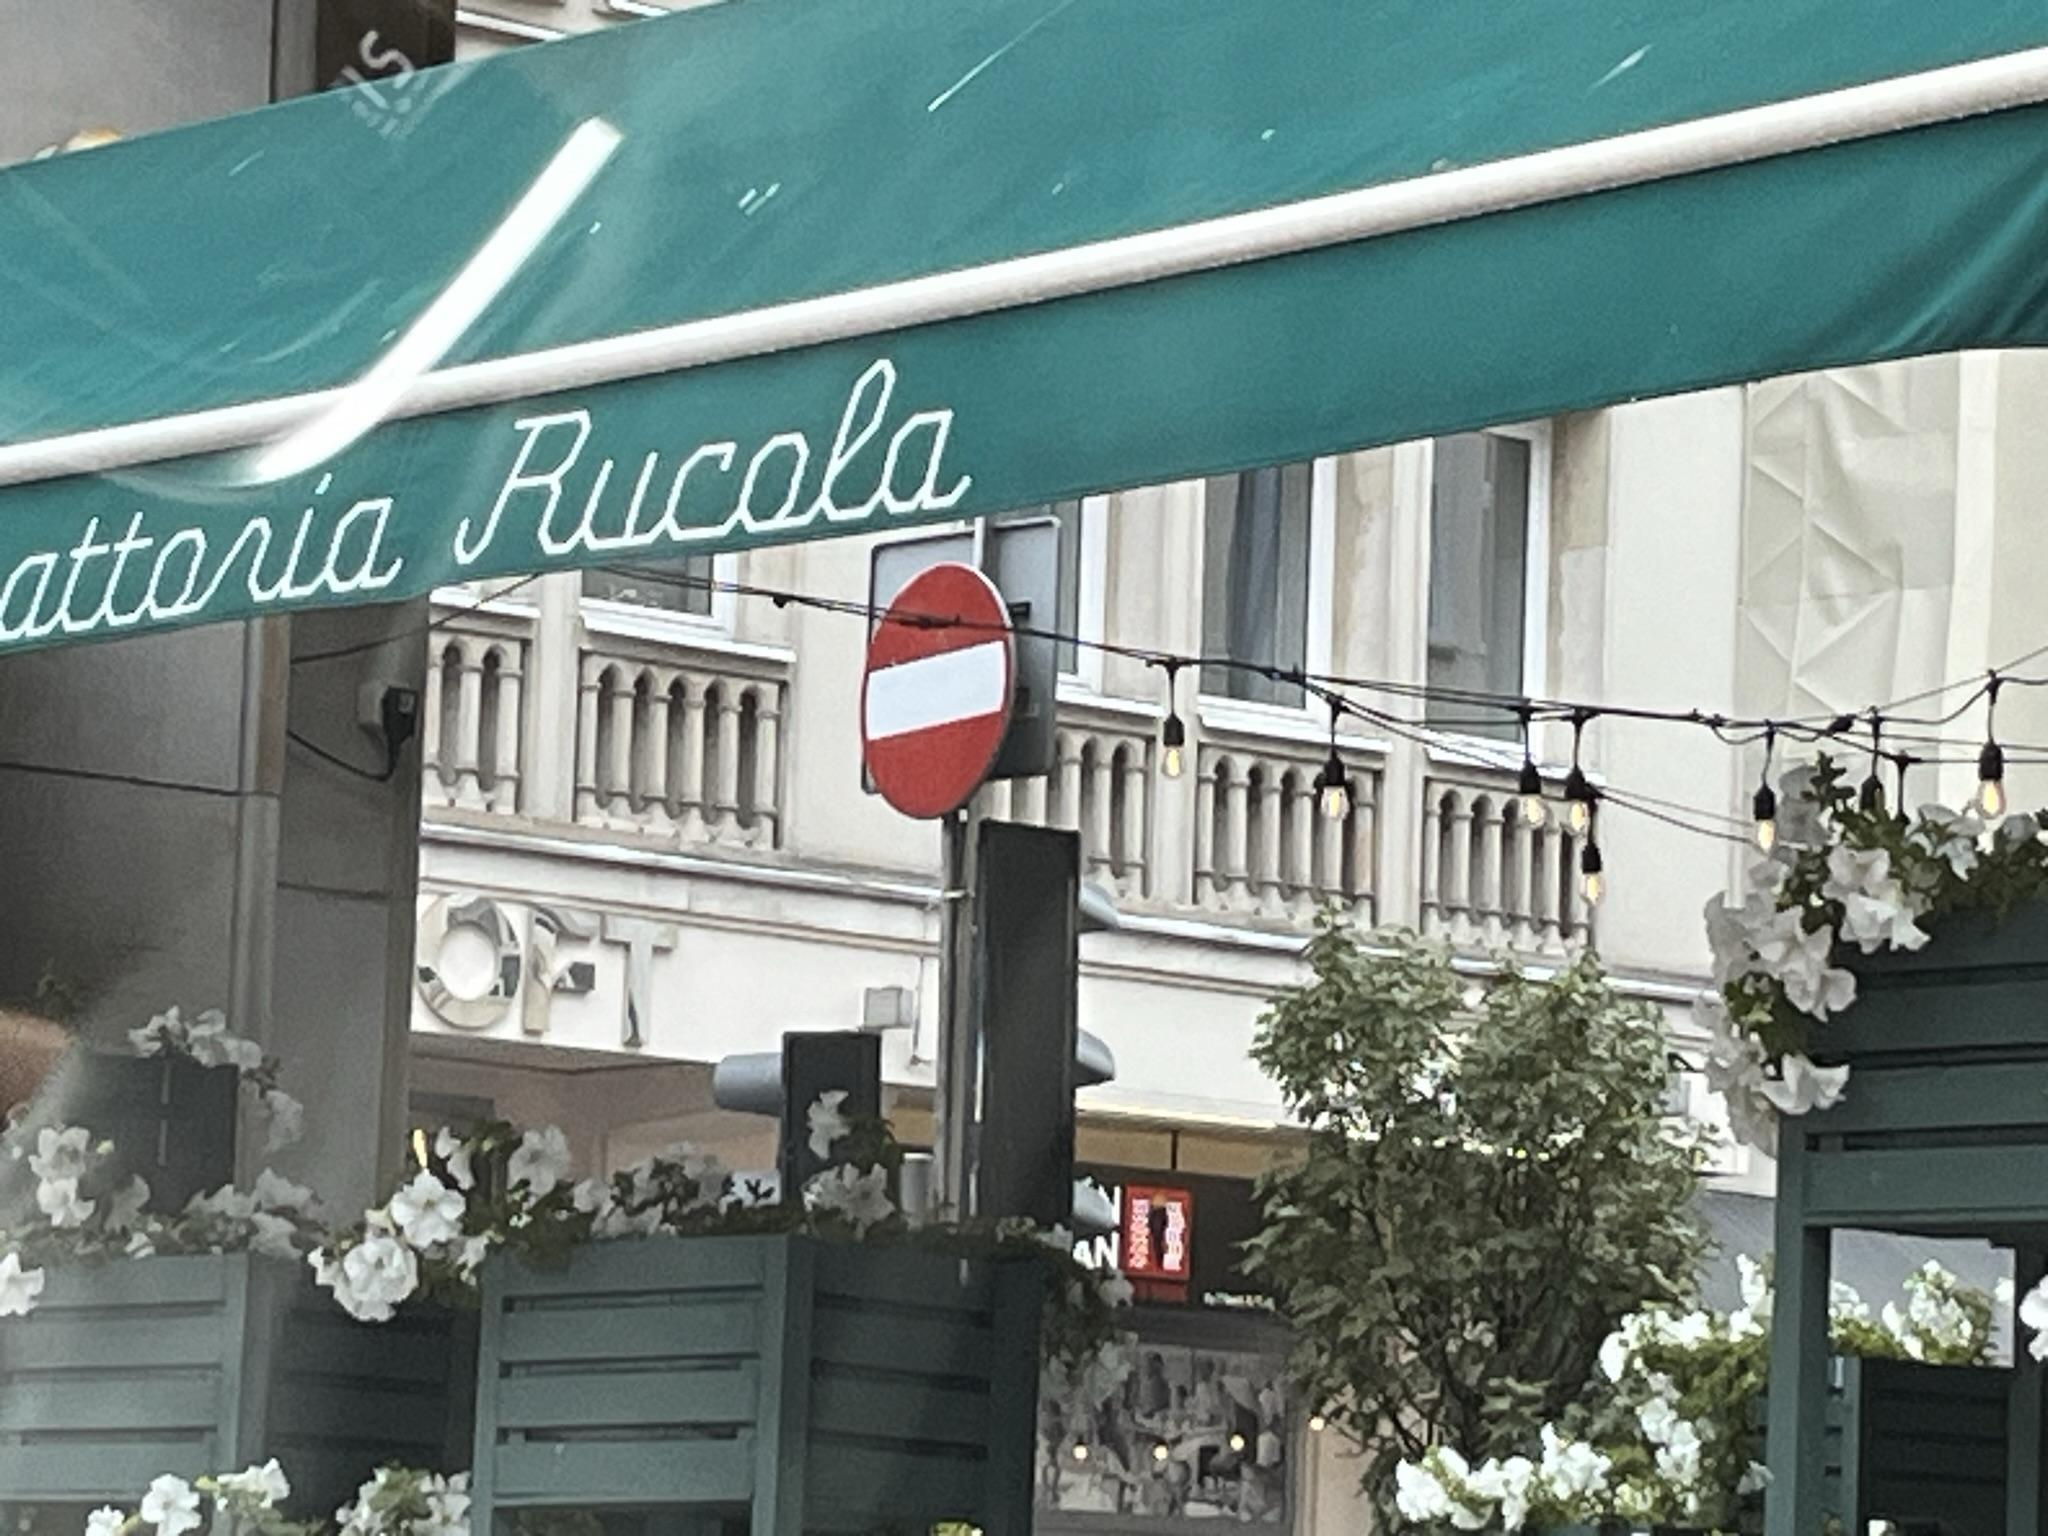prohibitory: (858, 558, 1018, 820)
